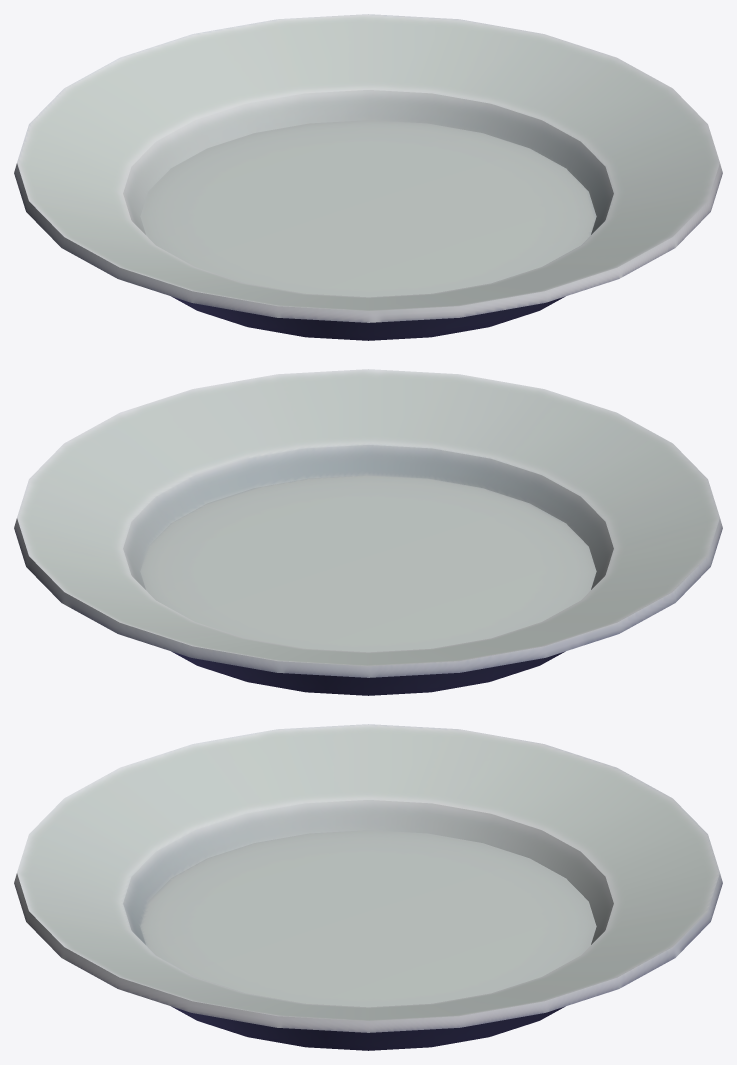
Rendered from plate.gltf.
3 renders of one model, top to bottom at view 1: azimuth 30°, elevation 25°; view 2: azimuth 150°, elevation 25°; view 3: azimuth 270°, elevation 25°, orthographic.
Visible parts, largest first — view 1: Object_5.002; view 2: Object_5.002; view 3: Object_5.002.
Boxes of the visible parts, bbox=[...] form: Object_5.002: bbox=[14, 14, 722, 340]; Object_5.002: bbox=[14, 369, 722, 695]; Object_5.002: bbox=[14, 724, 722, 1050].
Bounding box in the file's own units: 1.5 × 0.2003 × 1.5.
Materials: 1 (1 with a texture image).
